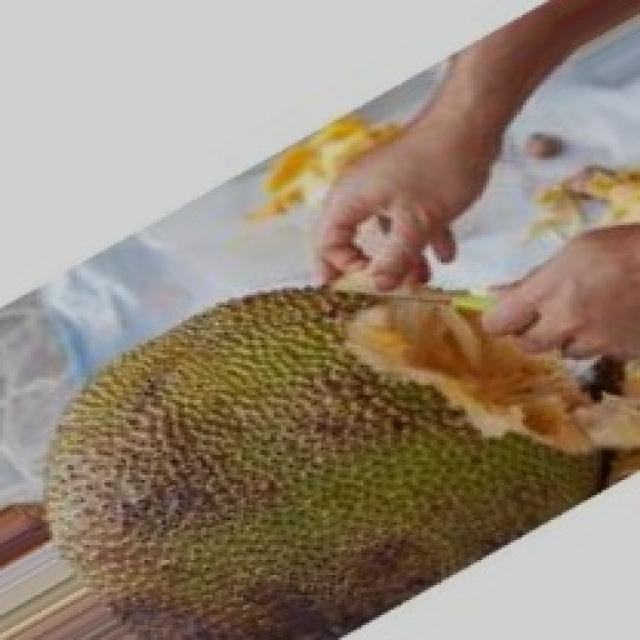Fruit: (9, 262, 406, 640), (246, 265, 637, 637)
